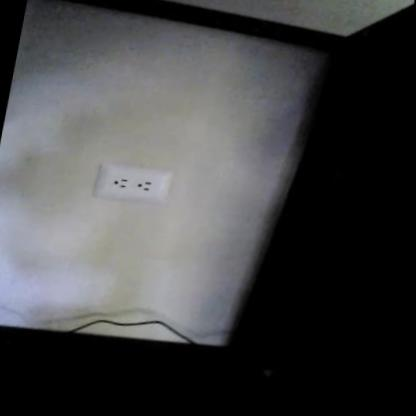OUTLET: (95, 157, 175, 207)
